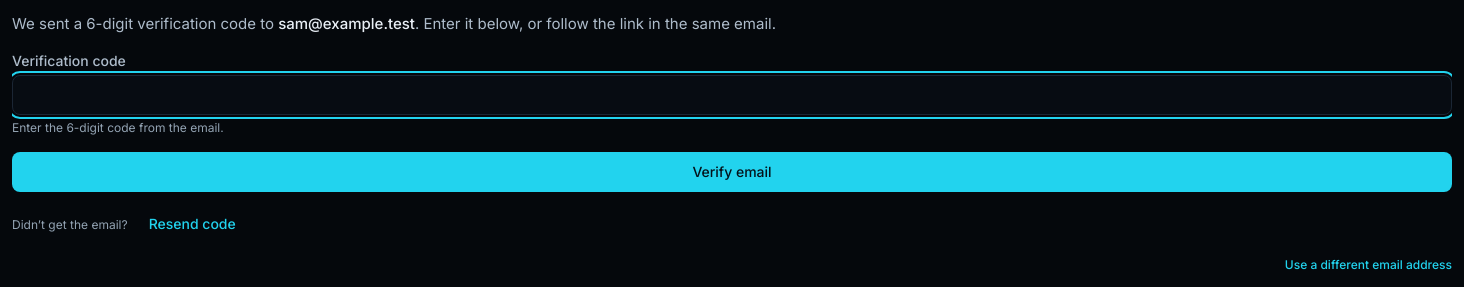
Test: code entry › keeps the six digits out of a pasted code and drops everything else
Type "Code: 12 34-56 789" into the field labelled "Verification code" at x=732, y=95, box [12,75,1452,115]
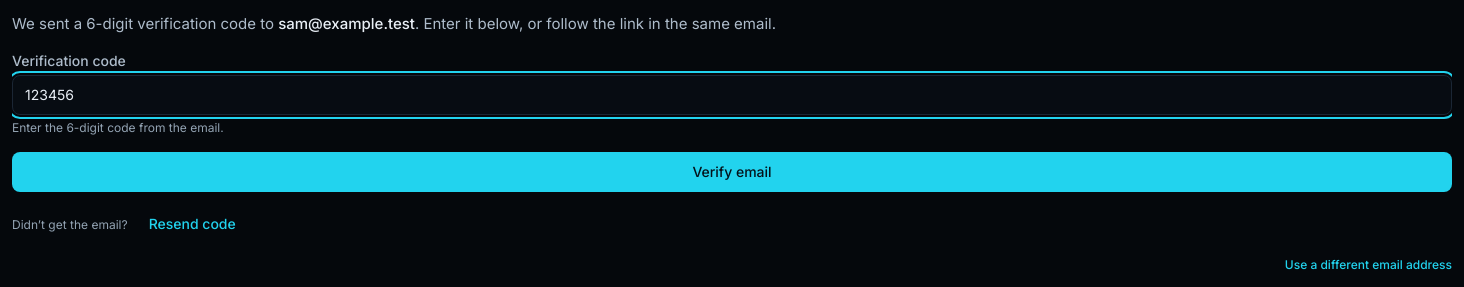
expect the field labelled "Verification code" holds "123456": met, box [12,75,1452,115]
